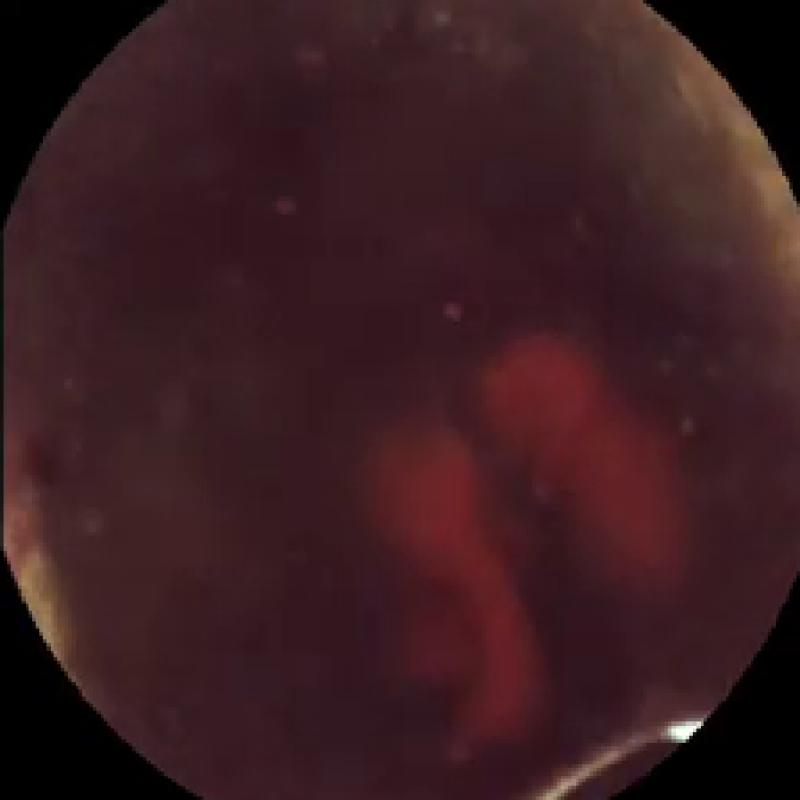bleeding: (357, 321, 697, 743)
